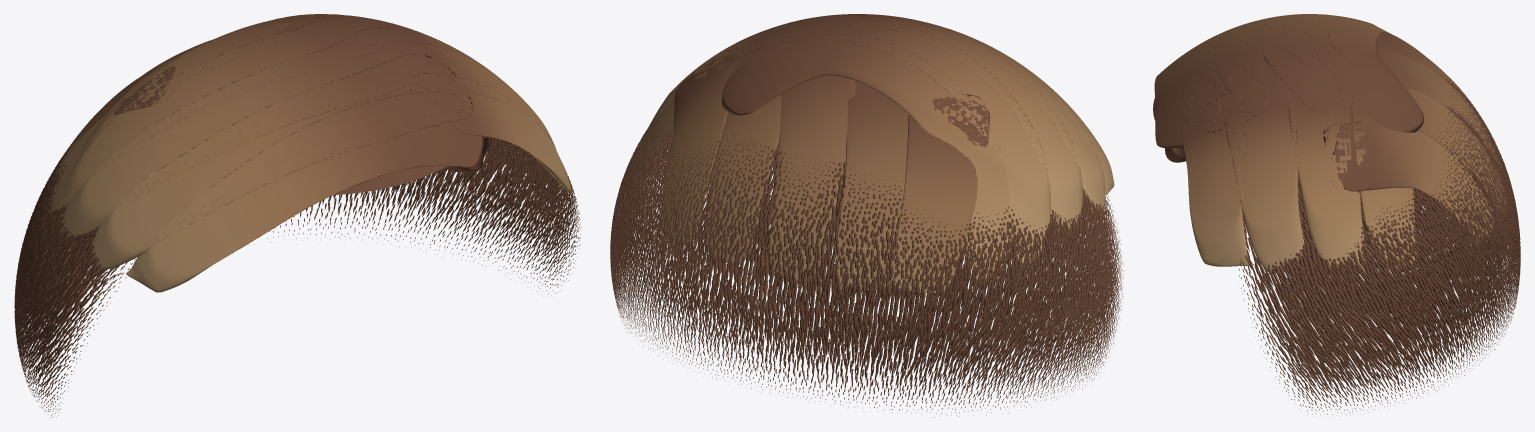
Rendered from Masculine-taper-cap254-hair-ombre.glb.
The picture shows the model from 3 angles, left to right: view 1: azimuth 30°, elevation 25°; view 2: azimuth 150°, elevation 25°; view 3: azimuth 270°, elevation 25°; orthographic projection. The views are drawn at different scales.
Parts seen in each view (by area): view 1: 226 hair / Hair252 / sculpted locks, 226 hair / Hair252 / gentle tonal variation, 226 hair / Hair254 / rooted short groom; view 2: 226 hair / Hair254 / rooted short groom, 226 hair / Hair252 / sculpted locks, 226 hair / Hair252 / gentle tonal variation; view 3: 226 hair / Hair252 / sculpted locks, 226 hair / Hair254 / rooted short groom, 226 hair / Hair252 / gentle tonal variation.
Boxes of the visible parts, left/top/right/bottom form: 226 hair / Hair252 / sculpted locks: left=36, top=14, right=556, bottom=270; 226 hair / Hair252 / gentle tonal variation: left=126, top=40, right=571, bottom=292; 226 hair / Hair254 / rooted short groom: left=14, top=136, right=581, bottom=417; 226 hair / Hair254 / rooted short groom: left=610, top=113, right=1123, bottom=417; 226 hair / Hair252 / sculpted locks: left=629, top=14, right=1105, bottom=293; 226 hair / Hair252 / gentle tonal variation: left=835, top=22, right=1114, bottom=290; 226 hair / Hair252 / sculpted locks: left=1178, top=14, right=1506, bottom=276; 226 hair / Hair254 / rooted short groom: left=1153, top=72, right=1520, bottom=417; 226 hair / Hair252 / gentle tonal variation: left=1154, top=33, right=1468, bottom=266.
Size of the model in its own units: 0.9716 by 0.5806 by 0.7016.
